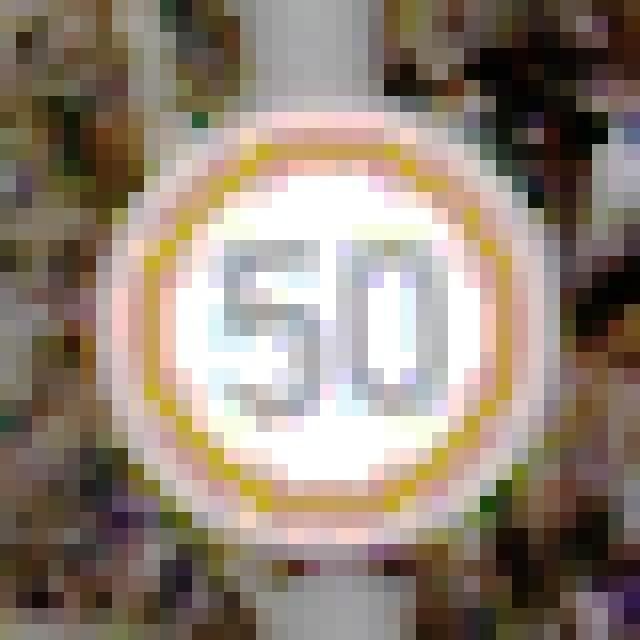50 kph: (80, 80, 528, 512)
